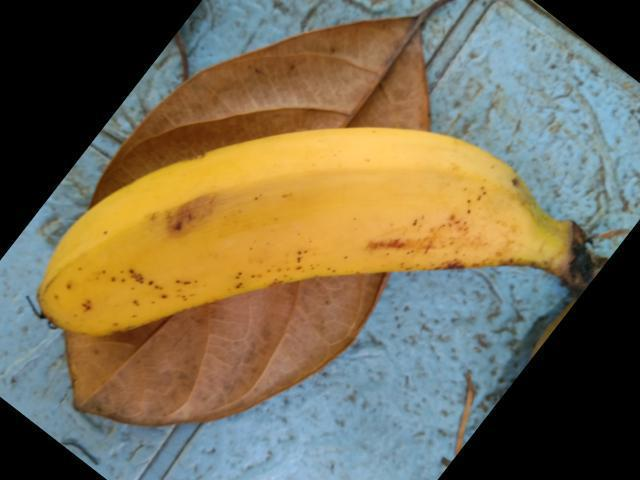ripe: (15, 116, 587, 343)
